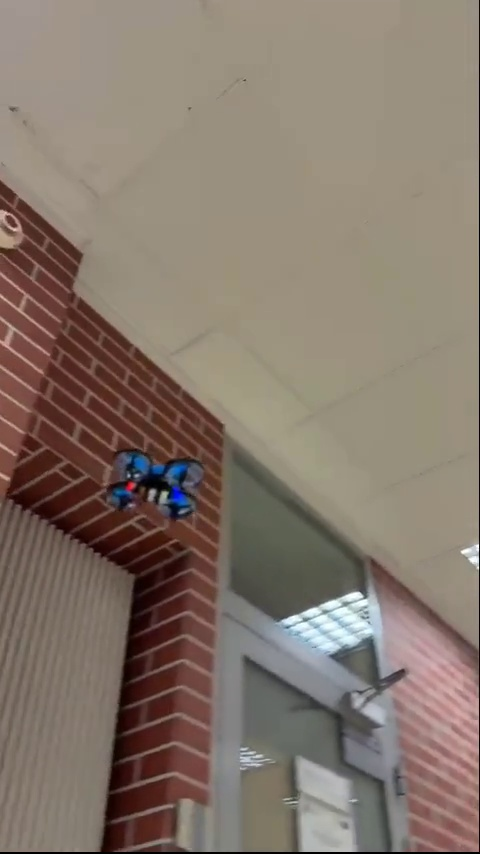drone: (101, 448, 203, 523)
